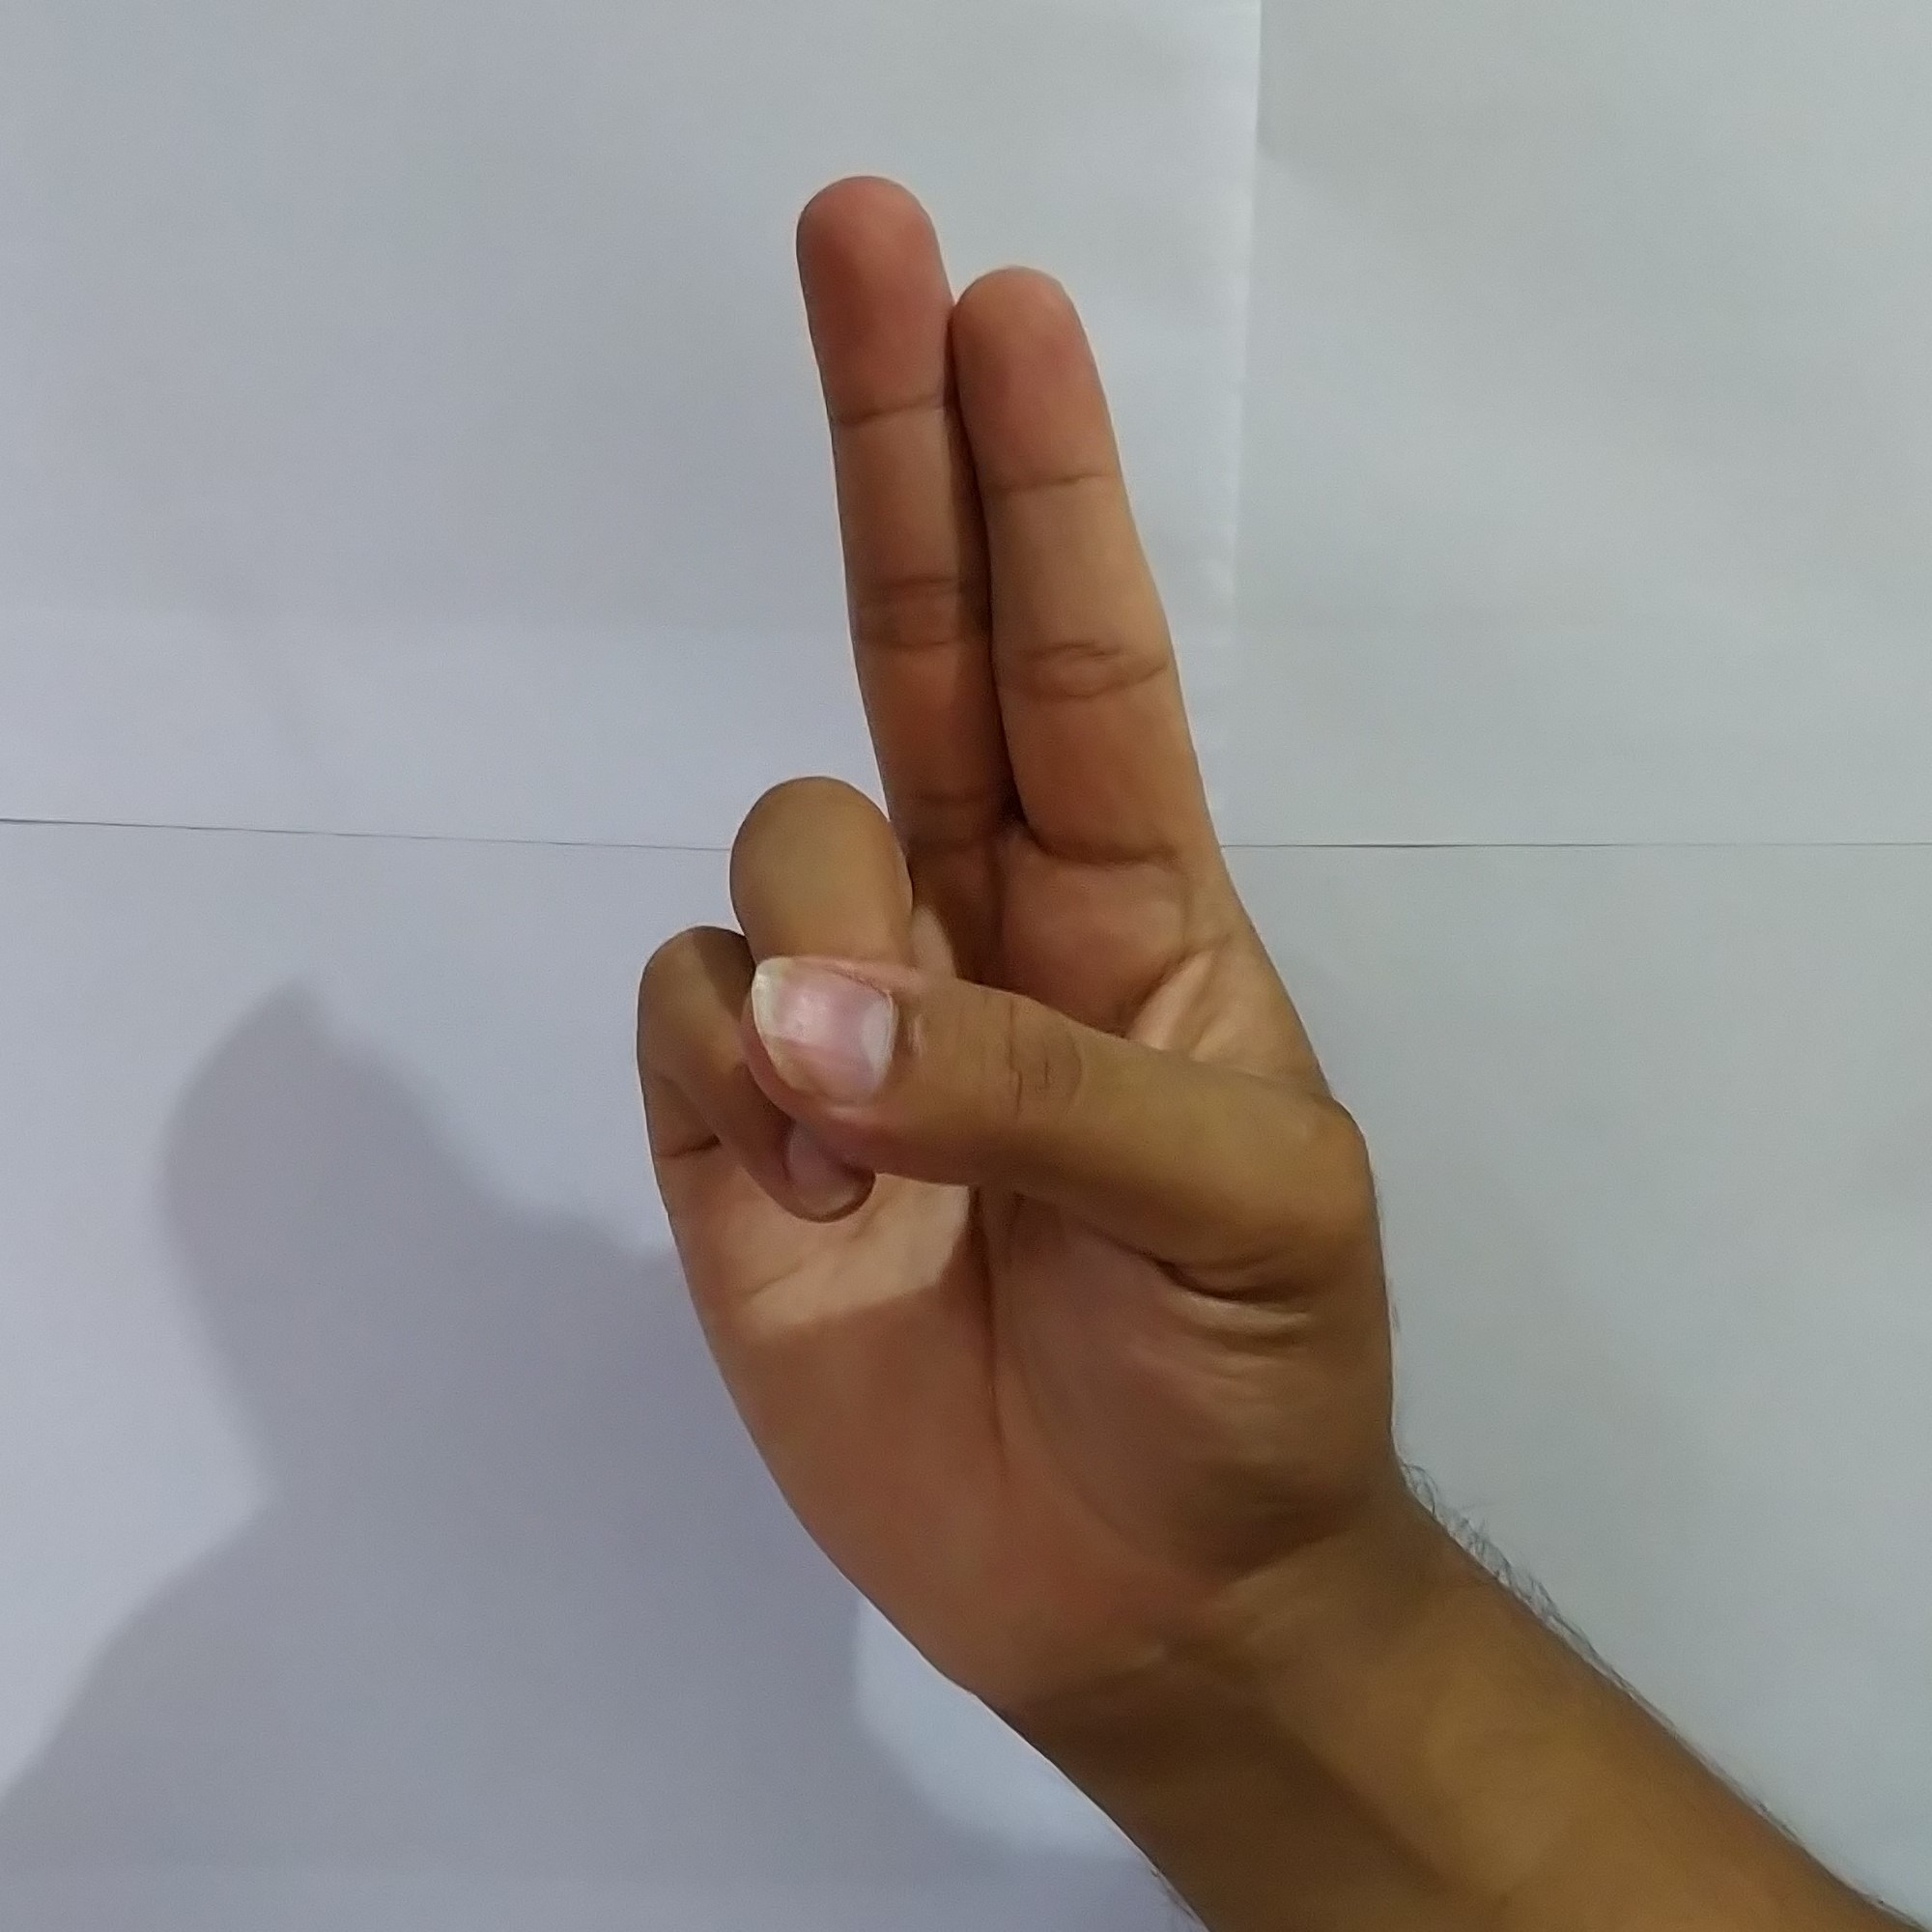U: (587, 152, 1566, 1656)
